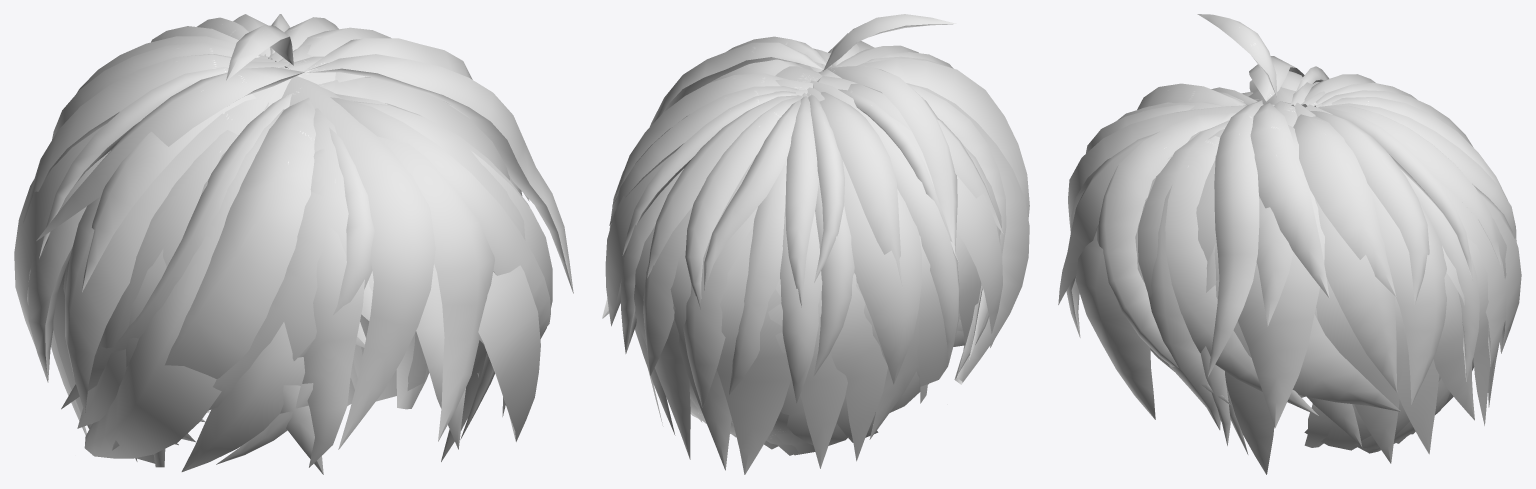
Rendered from Hair00.fbx.
The picture shows the model from 3 angles, left to right: view 1: azimuth 30°, elevation 25°; view 2: azimuth 150°, elevation 25°; view 3: azimuth 270°, elevation 25°; orthographic projection. The views are drawn at different scales.
Visible parts, largest first — view 1: Hair_00:Mesh; view 2: Hair_00:Mesh; view 3: Hair_00:Mesh.
Part boxes in pixels (x1,y1,x2,y2): Hair_00:Mesh: (14,14,573,474); Hair_00:Mesh: (602,14,1029,474); Hair_00:Mesh: (1058,14,1521,474).
Bounding box in the file's own units: 147 × 150 × 167.
1 material, 1 textured.
